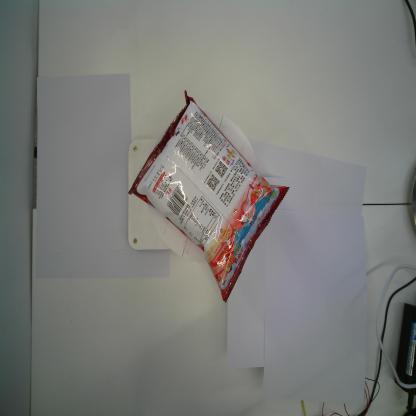Puffed Food: (128, 90, 292, 304)
